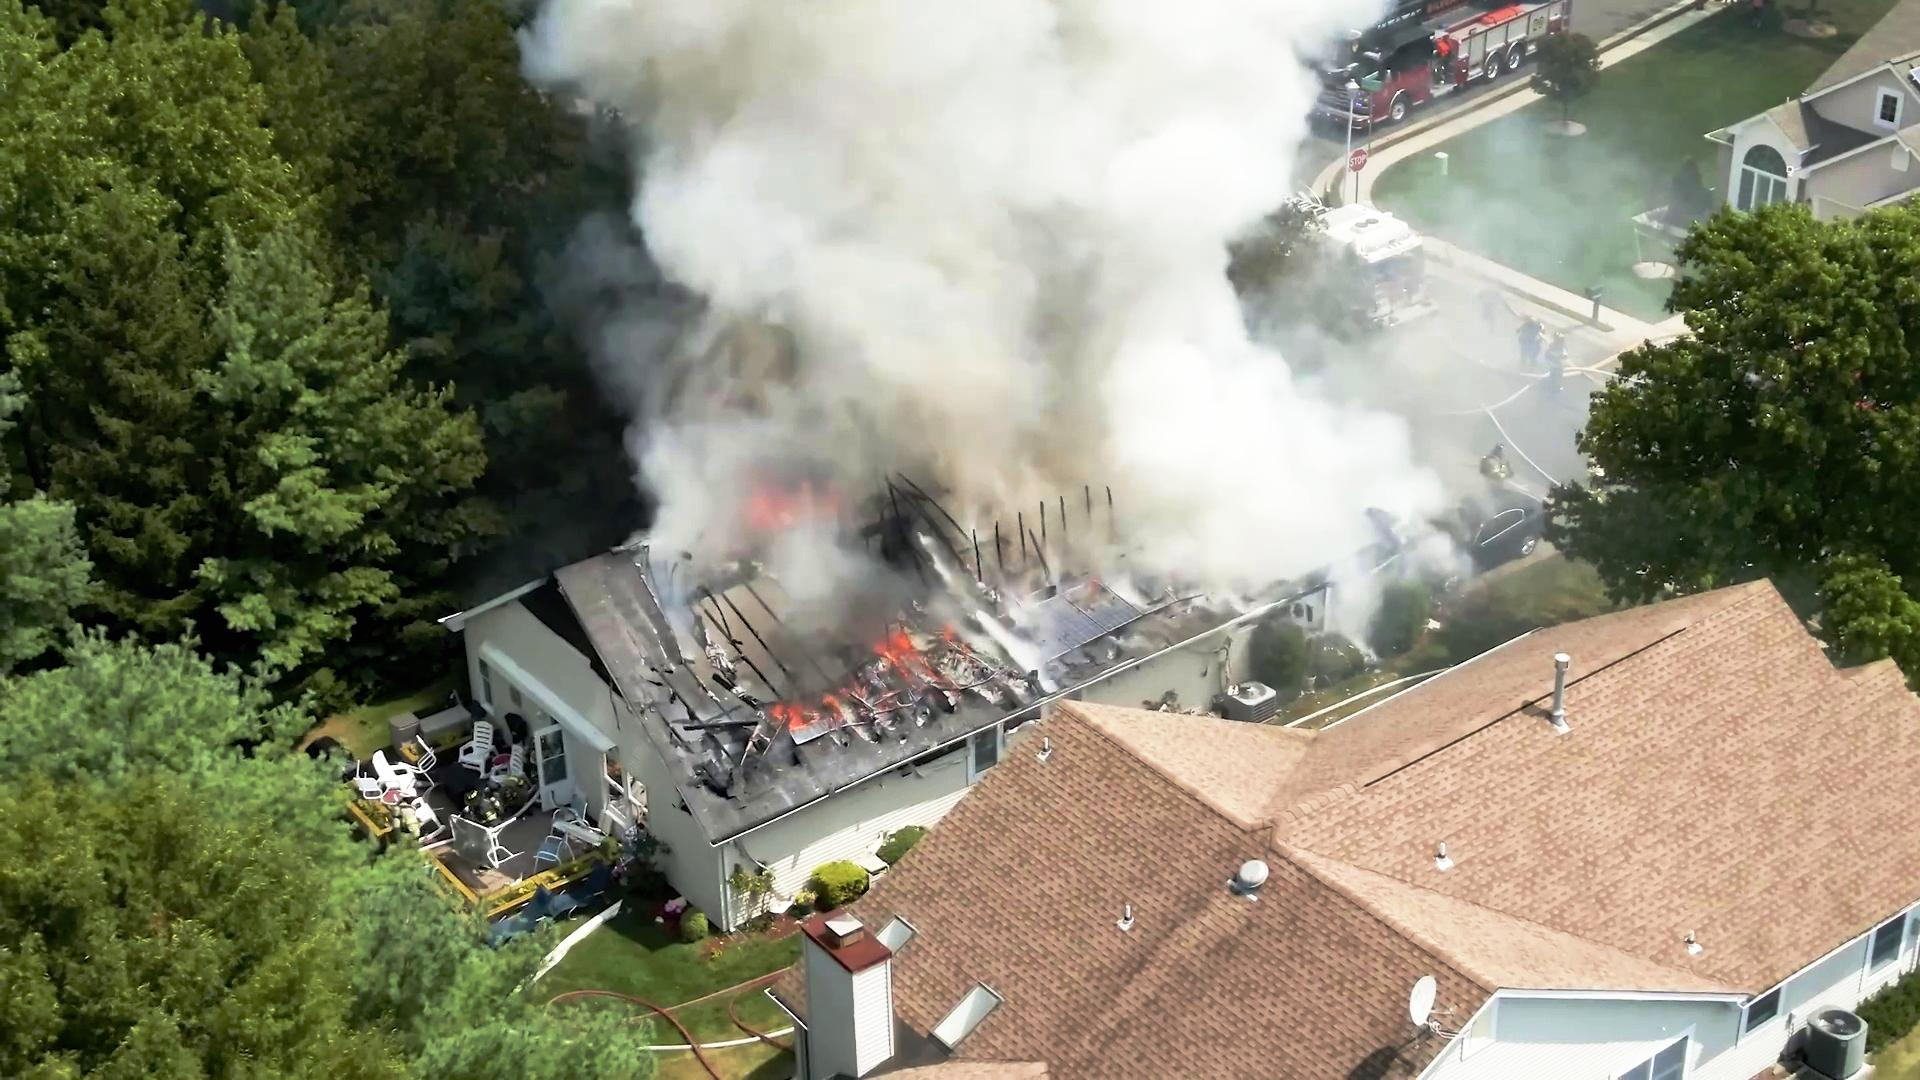smoke: (641, 30, 1265, 336), (691, 287, 1120, 553), (1127, 345, 1425, 604)
